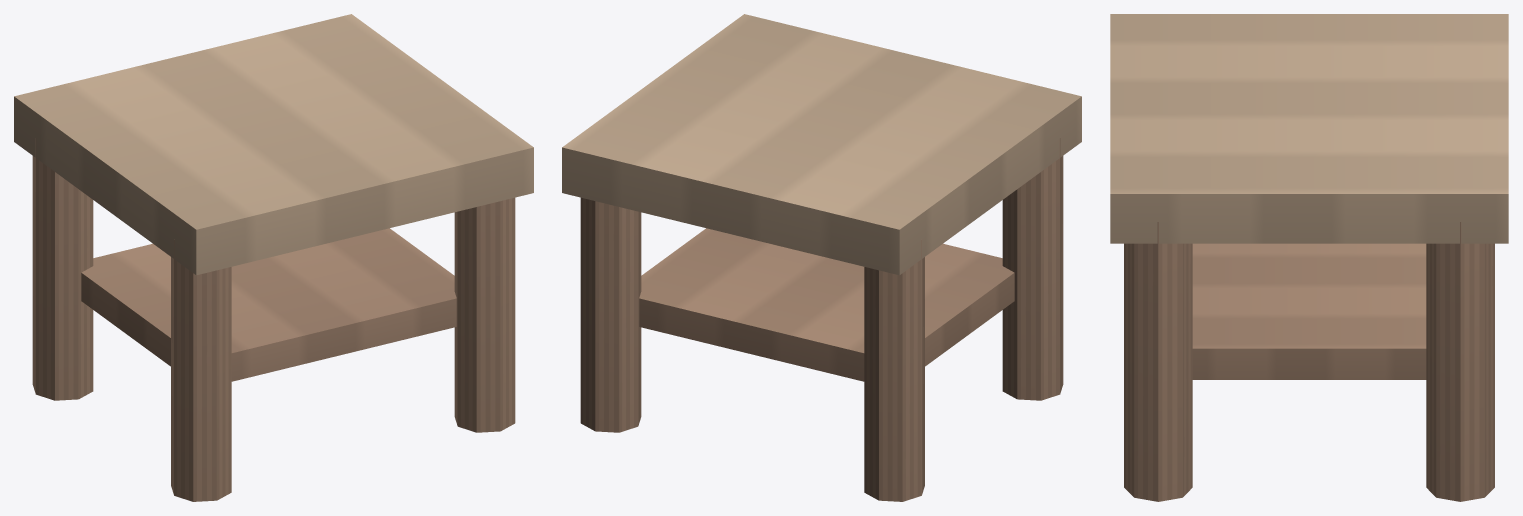
Rendered from stool.glb.
The picture shows the model from 3 angles, left to right: view 1: azimuth 30°, elevation 25°; view 2: azimuth 150°, elevation 25°; view 3: azimuth 270°, elevation 25°; orthographic projection. The views are drawn at different scales.
Visible parts, largest first — view 1: stool; view 2: stool; view 3: stool.
Boxes of the visible parts, x1=… form: stool: x1=14, y1=14, x2=533, y2=501; stool: x1=562, y1=14, x2=1081, y2=501; stool: x1=1110, y1=14, x2=1508, y2=501.
Size of the model in its own units: 0.6208 by 0.495 by 0.58.
Materials: 1 (1 with a texture image).
